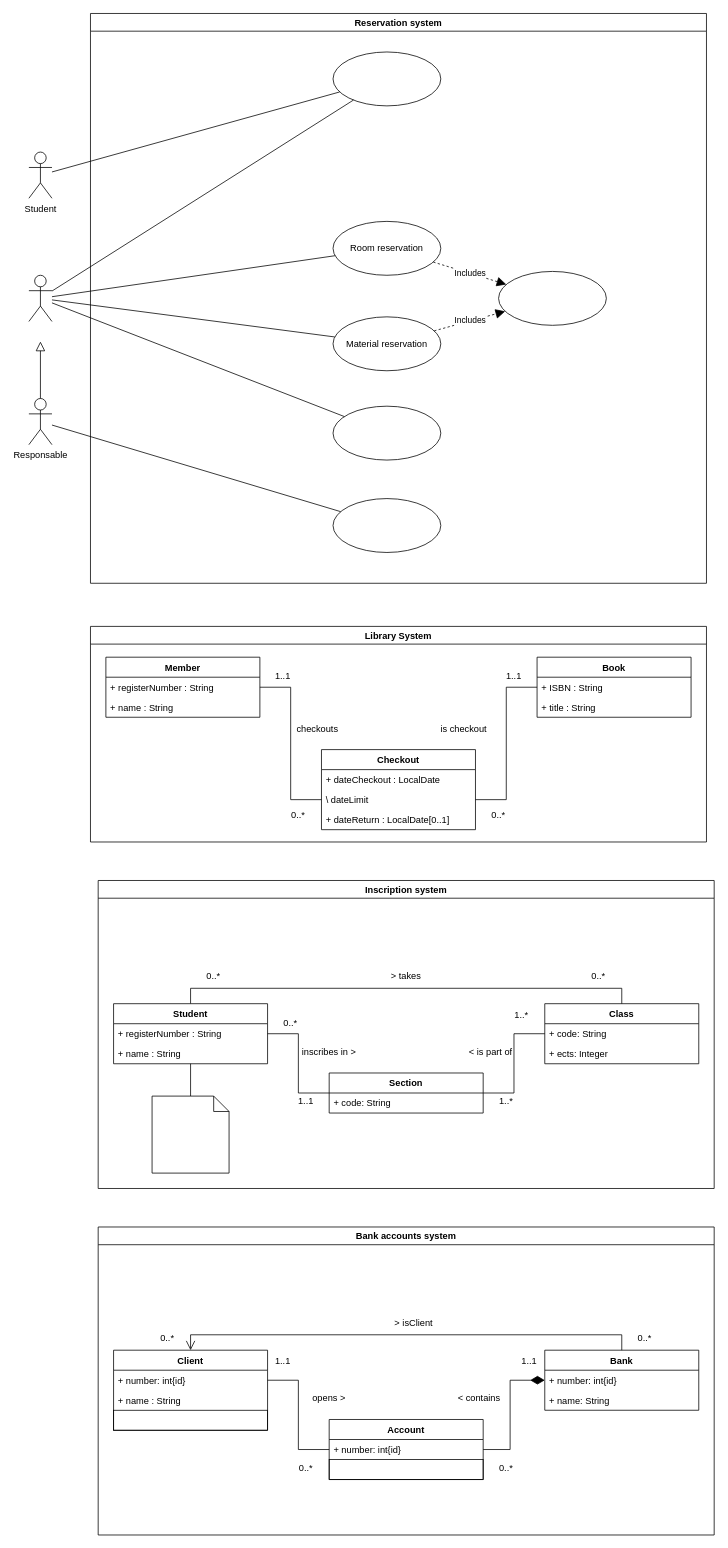
Some shapes in this 728 by 1548 pixel diagram are drawn without their labels. The shapes that lost their labels are listed below. From the top down, each one's centre as x and y in pixels, then its label:
[386,78]: View room schedule
[40,298]: Teacher
[552,298]: Check availability
[386,432]: View teacher schedule summary
[386,525]: Edit course schedule summary
[190,1134]: sum(ects) > 60
[190,1419]: openAccount(Bank) : Account
[405,1469]: + constructor (Client, Bank)
